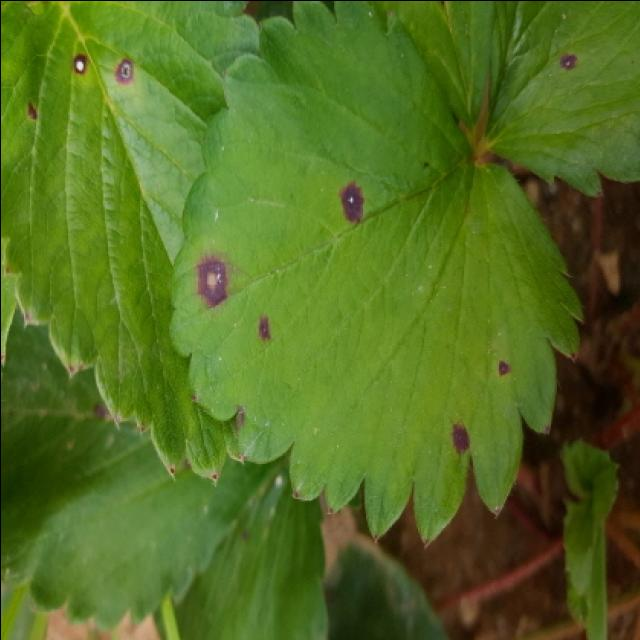Leaf Spot: (167, 2, 586, 550), (0, 2, 261, 488), (0, 305, 270, 631), (156, 447, 330, 640), (479, 2, 638, 198)
